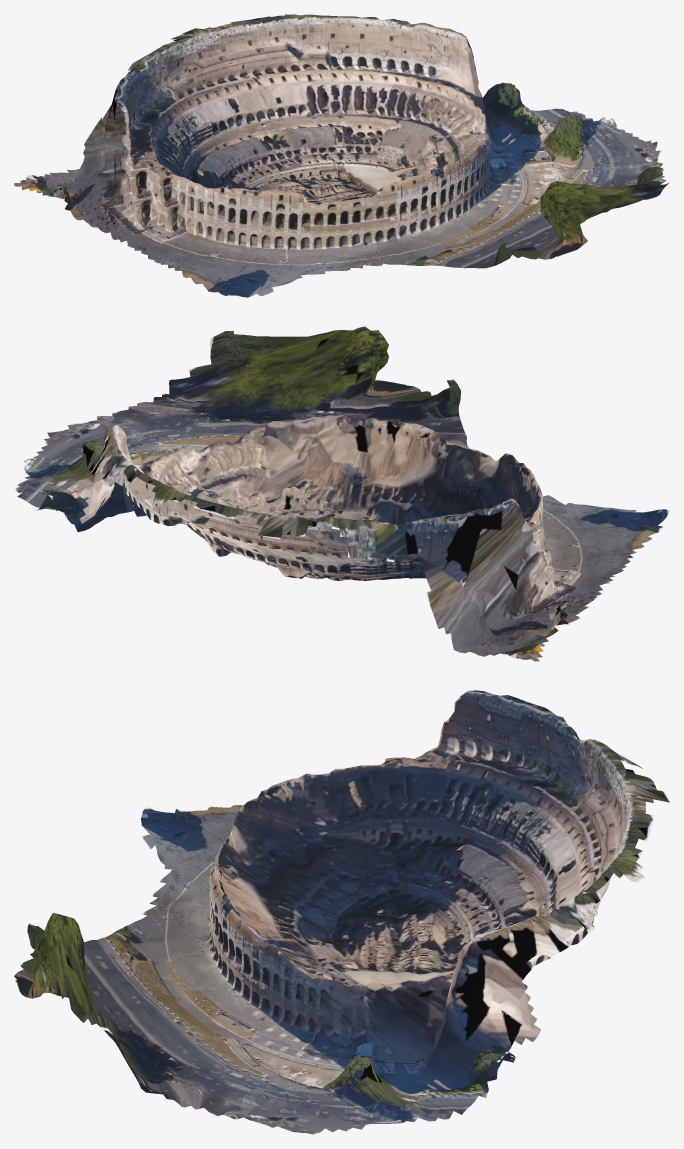
The model's file is colosseum.glb.
3 views of the same model, one above another, from view 1: azimuth 30°, elevation 25°; view 2: azimuth 150°, elevation 25°; view 3: azimuth 270°, elevation 25° (orthographic). The views are drawn at different scales.
Parts seen in each view (by area): view 1: Object_2; view 2: Object_2; view 3: Object_2.
Boxes of the visible parts, box(x1,y1,x2,y2) form: Object_2: box(14, 14, 669, 297); Object_2: box(14, 326, 669, 661); Object_2: box(14, 690, 669, 1134).
Size of the model in its own units: 37.97 by 7.9 by 30.18.
Materials: 1 (1 with a texture image).
